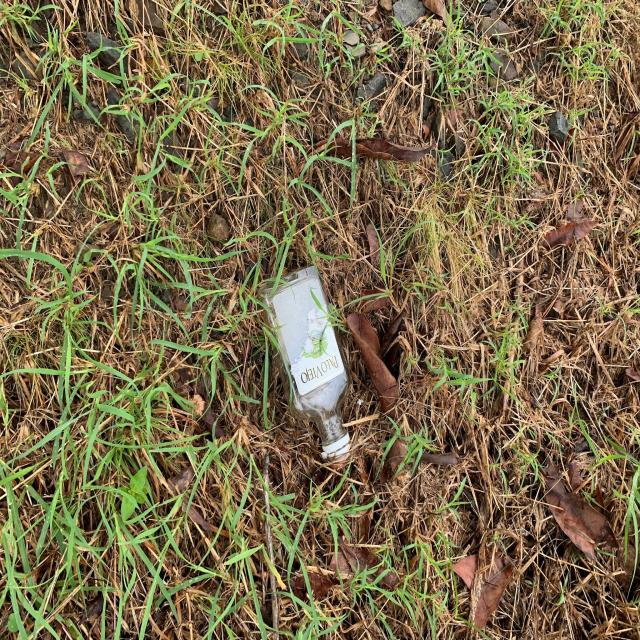litter: (259, 265, 351, 459)
